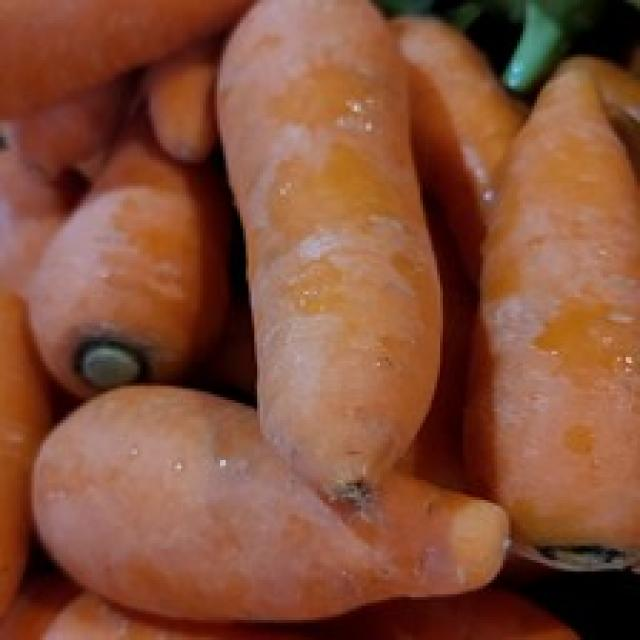Fresh_Carrot: (56, 373, 578, 640), (460, 0, 640, 546), (225, 7, 427, 404)
